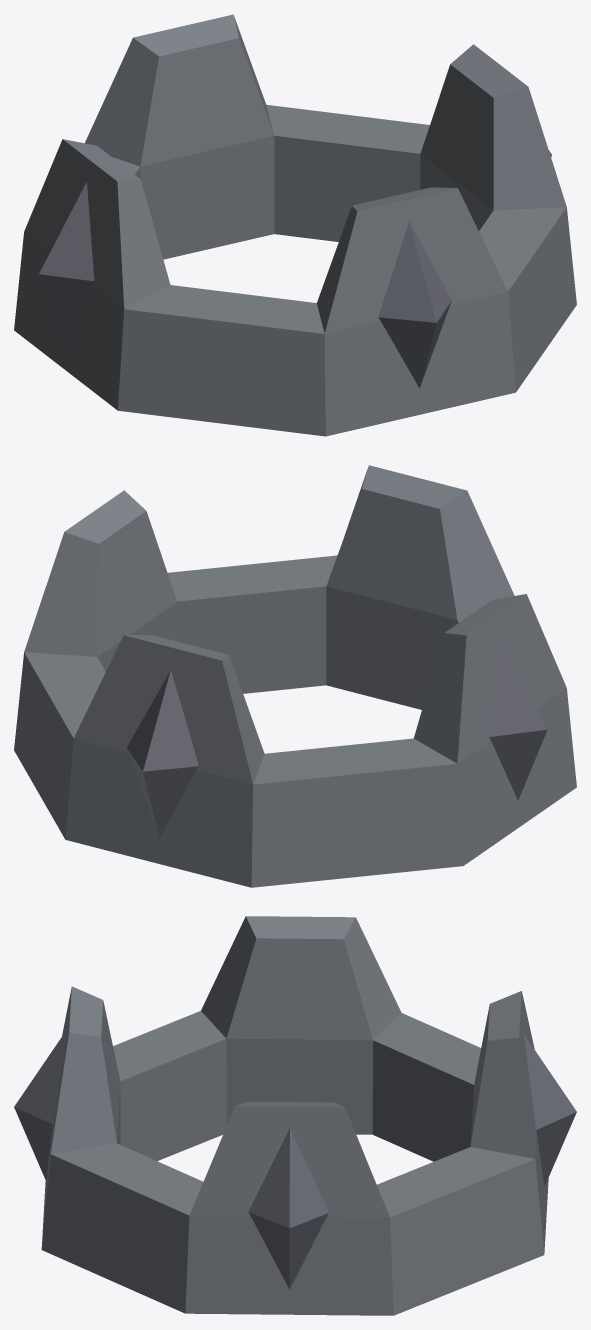
Rendered from Crown_01.FBX.
3 renders of one model, top to bottom at view 1: azimuth 30°, elevation 25°; view 2: azimuth 150°, elevation 25°; view 3: azimuth 270°, elevation 25°, orthographic. The views are drawn at different scales.
Parts seen in each view (by area): view 1: Crown_01; view 2: Crown_01; view 3: Crown_01.
Part boxes in pixels (left/top/right/bottom): Crown_01: left=14, top=14, right=576, bottom=436; Crown_01: left=14, top=465, right=576, bottom=887; Crown_01: left=14, top=916, right=576, bottom=1315.
Bounding box in the file's own units: 8.51 × 3.28 × 8.51.
